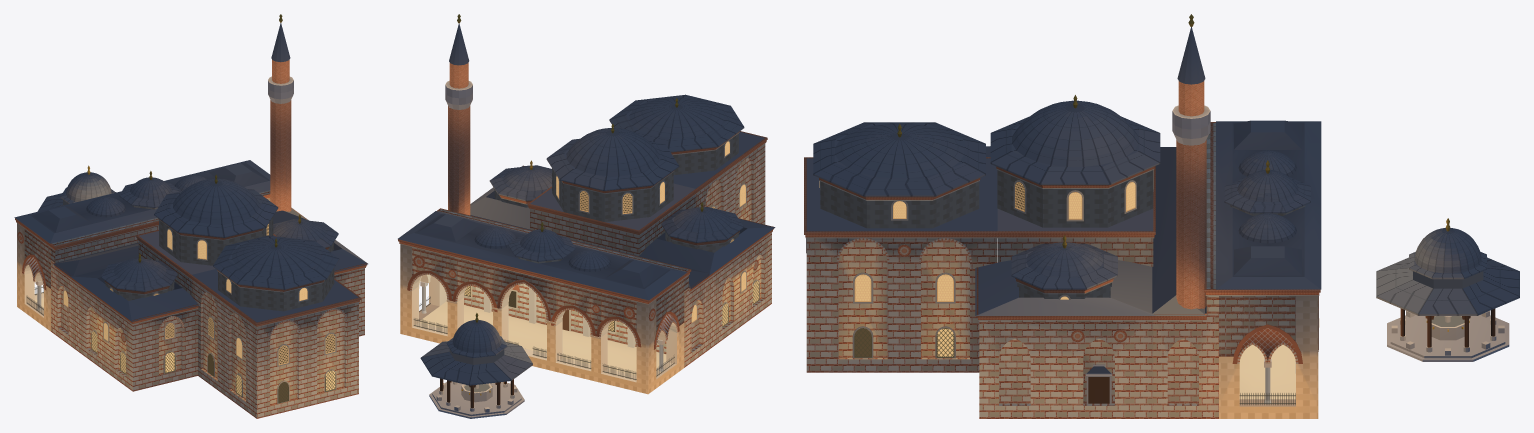
File: orhan-bey-camii_v11_night.glb
3 views of the same model, side by side, from view 1: azimuth 30°, elevation 25°; view 2: azimuth 150°, elevation 25°; view 3: azimuth 270°, elevation 25° (orthographic). The views are drawn at different scales.
Parts seen in each view (by area): view 1: Cami_Govde, Cami_Mihrap, Cami_SonCemaat, Kubbe_Mihrap, Kubbe_Ana, Cami_Ortu, Minare, Kubbe_Tabhaneler, Sadirvan, Kubbe_Pencereler; view 2: Cami_SonCemaat, Cami_Govde, Kubbe_Ana, Sadirvan, Kubbe_Mihrap, Cami_Ortu, Kubbe_Tabhaneler, Minare, Cami_Mihrap, Kubbe_Pencereler; view 3: Cami_Govde, Cami_SonCemaat, Cami_Mihrap, Kubbe_Ana, Kubbe_Mihrap, Cami_Ortu, Sadirvan, Minare, Kubbe_Tabhaneler, Kubbe_Pencereler.
Boxes of the visible parts, x1,y1,x2,y2 form: Cami_Govde: [15, 171, 367, 403]; Cami_Mihrap: [191, 280, 358, 418]; Cami_SonCemaat: [14, 160, 270, 331]; Kubbe_Mihrap: [213, 235, 339, 311]; Kubbe_Ana: [154, 178, 278, 265]; Cami_Ortu: [53, 207, 367, 322]; Minare: [268, 14, 293, 211]; Kubbe_Tabhaneler: [101, 219, 338, 300]; Sadirvan: [37, 165, 116, 211]; Kubbe_Pencereler: [109, 174, 308, 302]; Cami_SonCemaat: [398, 211, 686, 394]; Cami_Govde: [398, 131, 774, 375]; Kubbe_Ana: [546, 128, 679, 221]; Sadirvan: [420, 313, 532, 418]; Kubbe_Mihrap: [609, 94, 744, 174]; Cami_Ortu: [470, 132, 775, 288]; Kubbe_Tabhaneler: [489, 165, 743, 252]; Minare: [445, 14, 472, 215]; Cami_Mihrap: [695, 143, 765, 224]; Kubbe_Pencereler: [529, 98, 734, 242]; Cami_Govde: [804, 122, 1320, 418]; Cami_SonCemaat: [1216, 120, 1321, 418]; Cami_Mihrap: [806, 238, 997, 372]; Kubbe_Ana: [990, 100, 1160, 227]; Kubbe_Mihrap: [813, 122, 985, 228]; Cami_Ortu: [806, 146, 1206, 315]; Sadirvan: [1376, 218, 1519, 361]; Minare: [1172, 14, 1210, 309]; Kubbe_Tabhaneler: [1011, 242, 1117, 298]; Kubbe_Pencereler: [819, 95, 1153, 299].
Bounding box in the file's own units: 26.2 × 28.65 × 46.86.
Materials: 23 (14 with a texture image).
